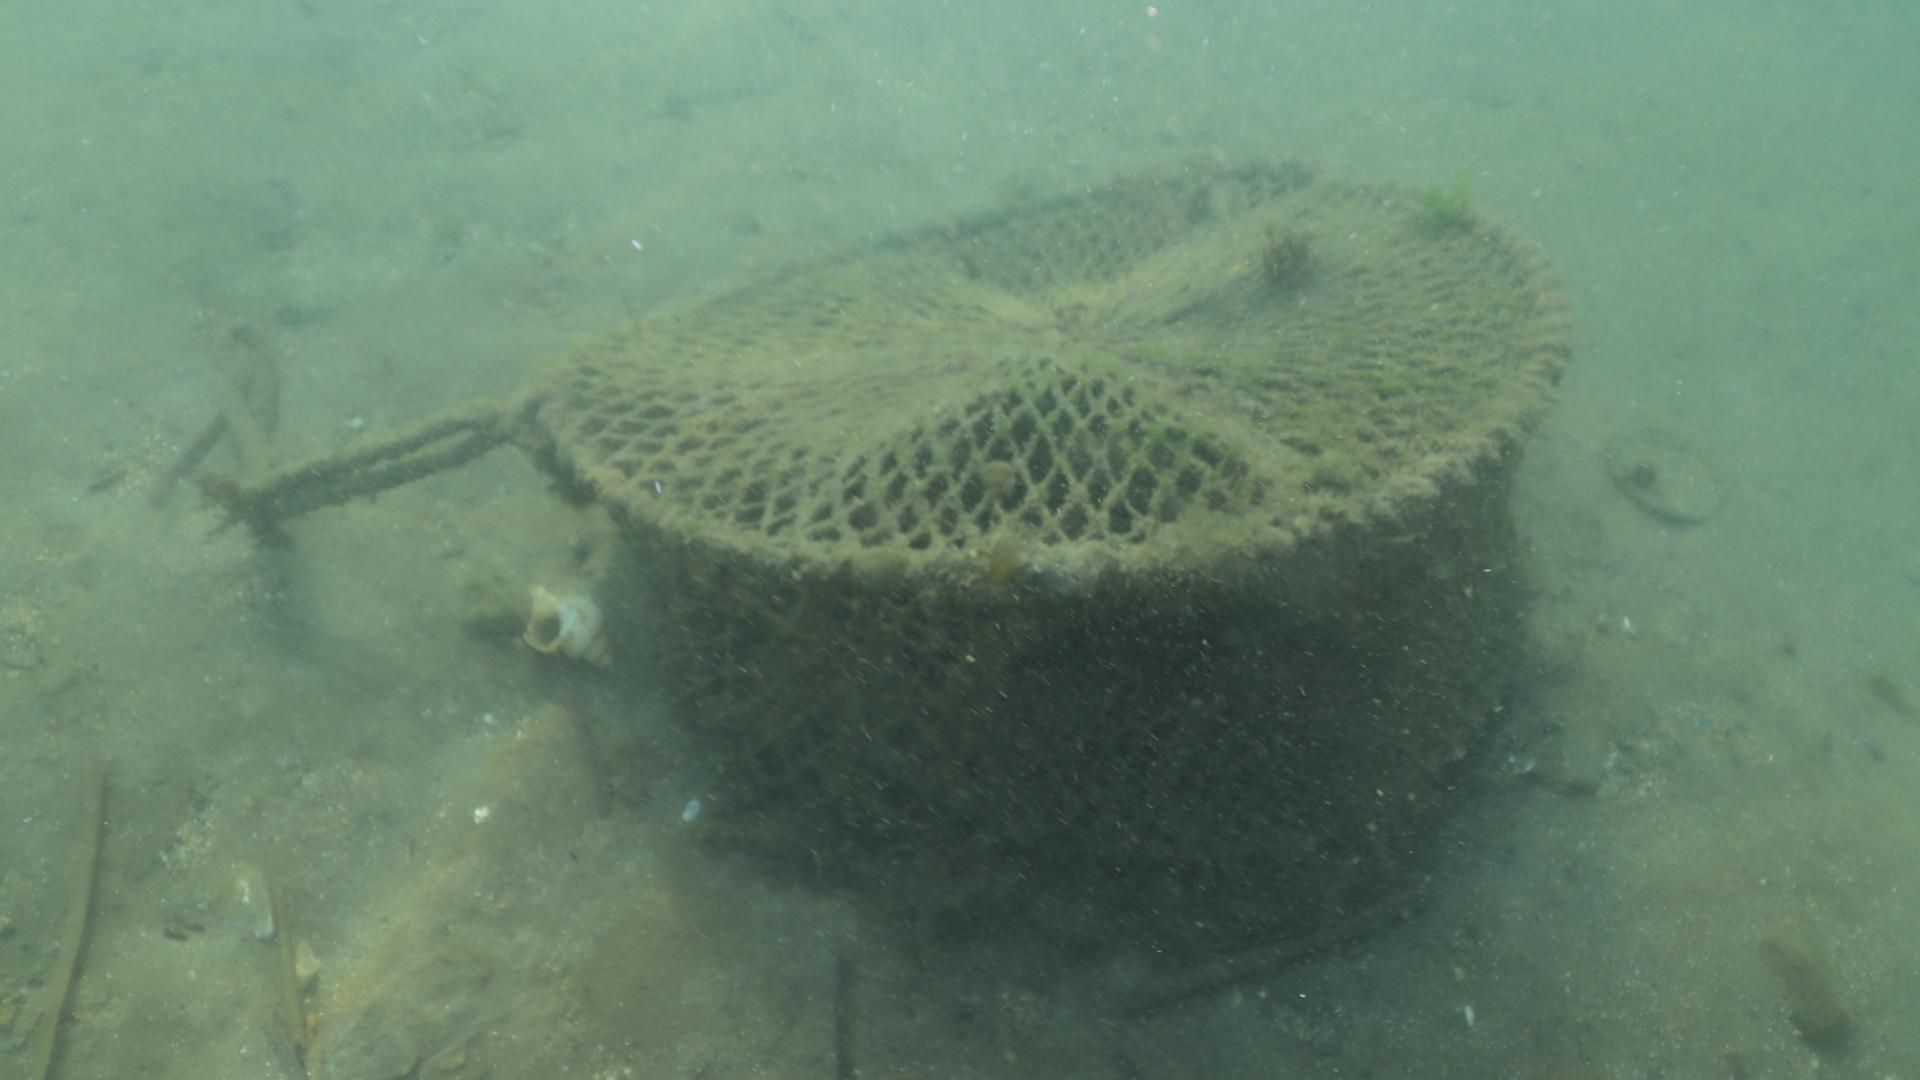bundle of ropes: (204, 318, 525, 522)
circular fish trap: (533, 162, 1564, 938)
